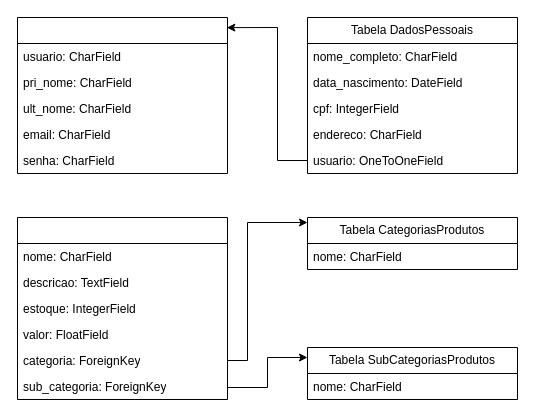
This 535x420 diagram has some shape labels left out. Each missing label, with the box of its shape:
Tabela Produtos: (16, 216, 228, 400)
Tabela Usuário: (16, 16, 228, 174)
